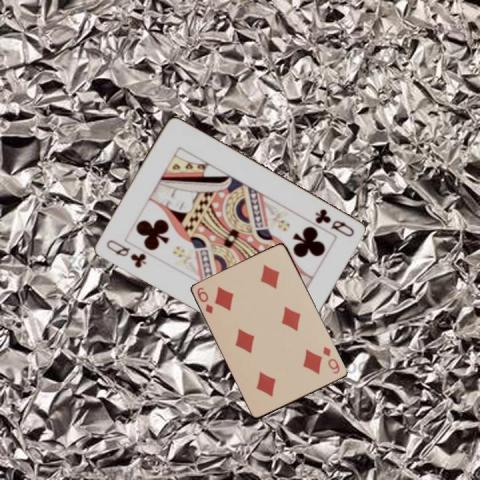6d: (320, 344, 341, 376), (194, 284, 215, 315)
Qc: (312, 205, 356, 239), (102, 237, 147, 270)
